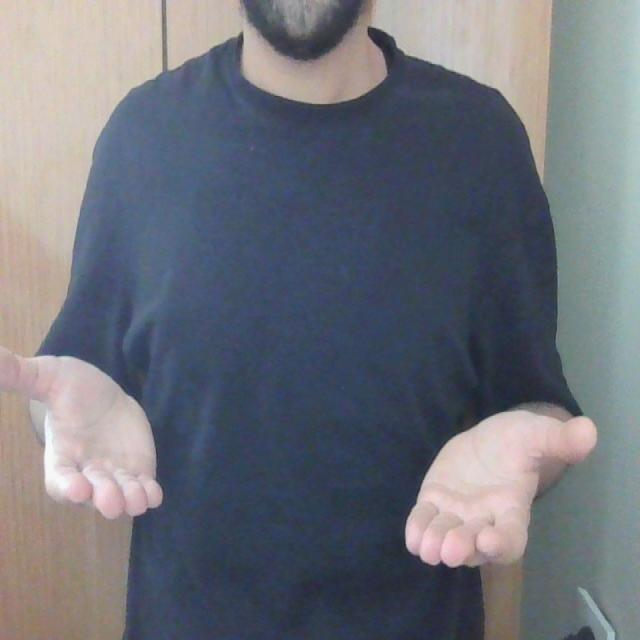Evet: (0, 343, 601, 578)
